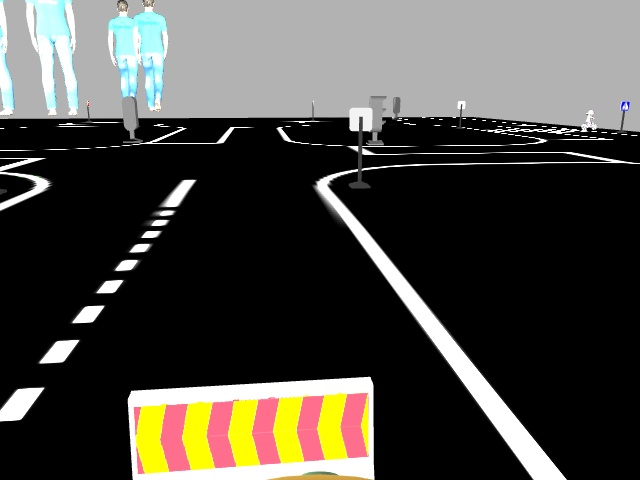ClosedRoadStand: (128, 391, 373, 478)
